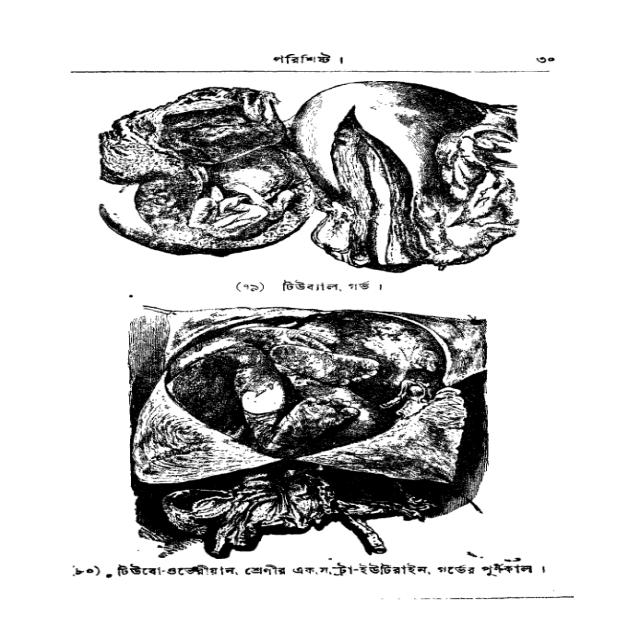caption: (68, 561, 547, 580), (233, 279, 385, 293)
image: (122, 301, 497, 561), (91, 76, 528, 277)
page number: (532, 54, 559, 65)
text: (270, 51, 345, 65)
